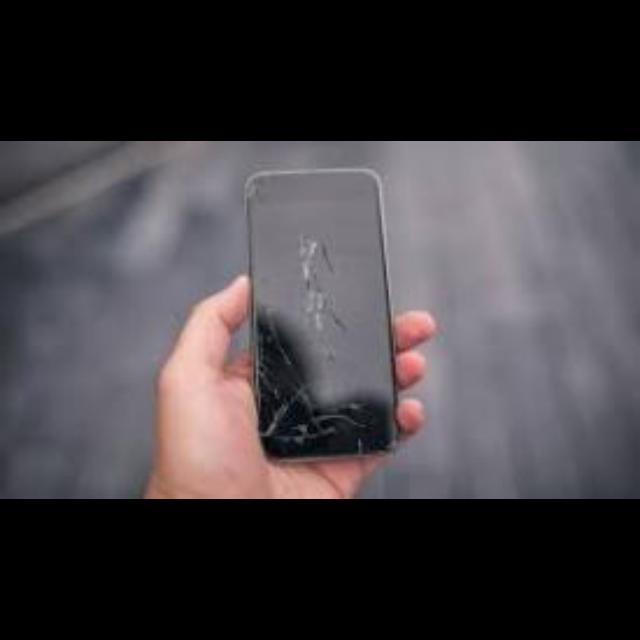PhoneUse: (246, 163, 399, 463)
